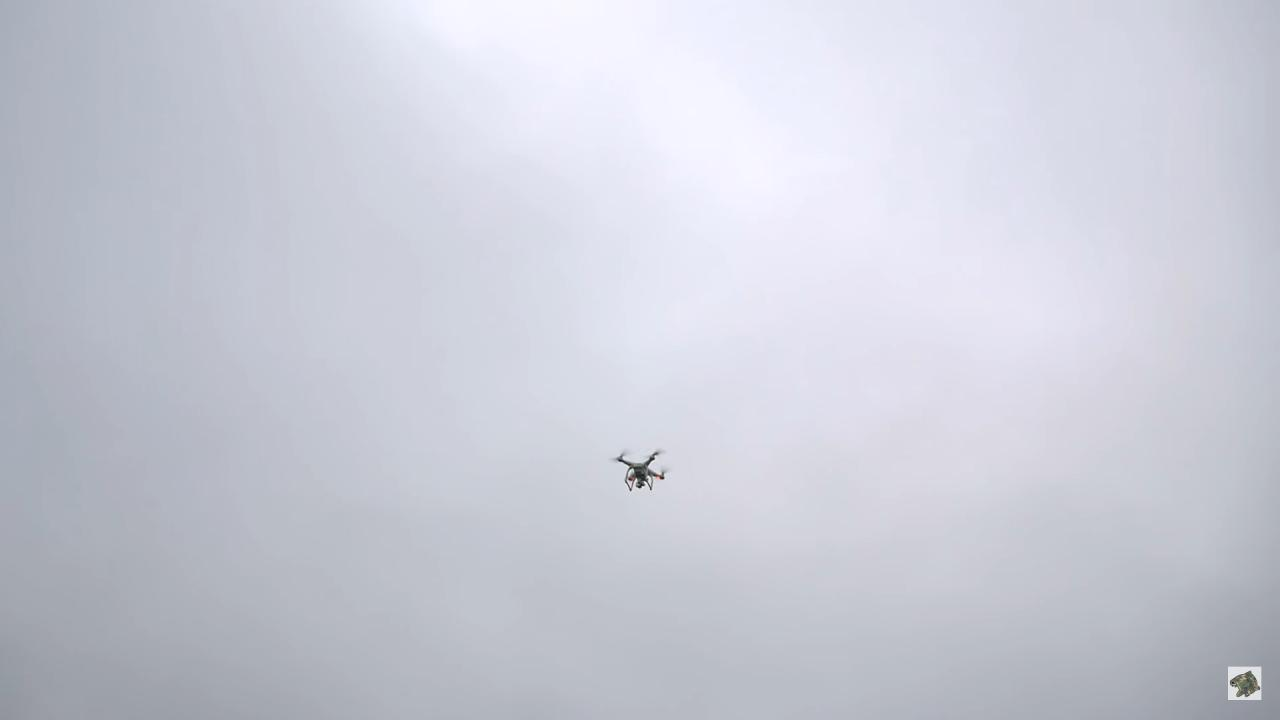Drone: (602, 442, 683, 500)
